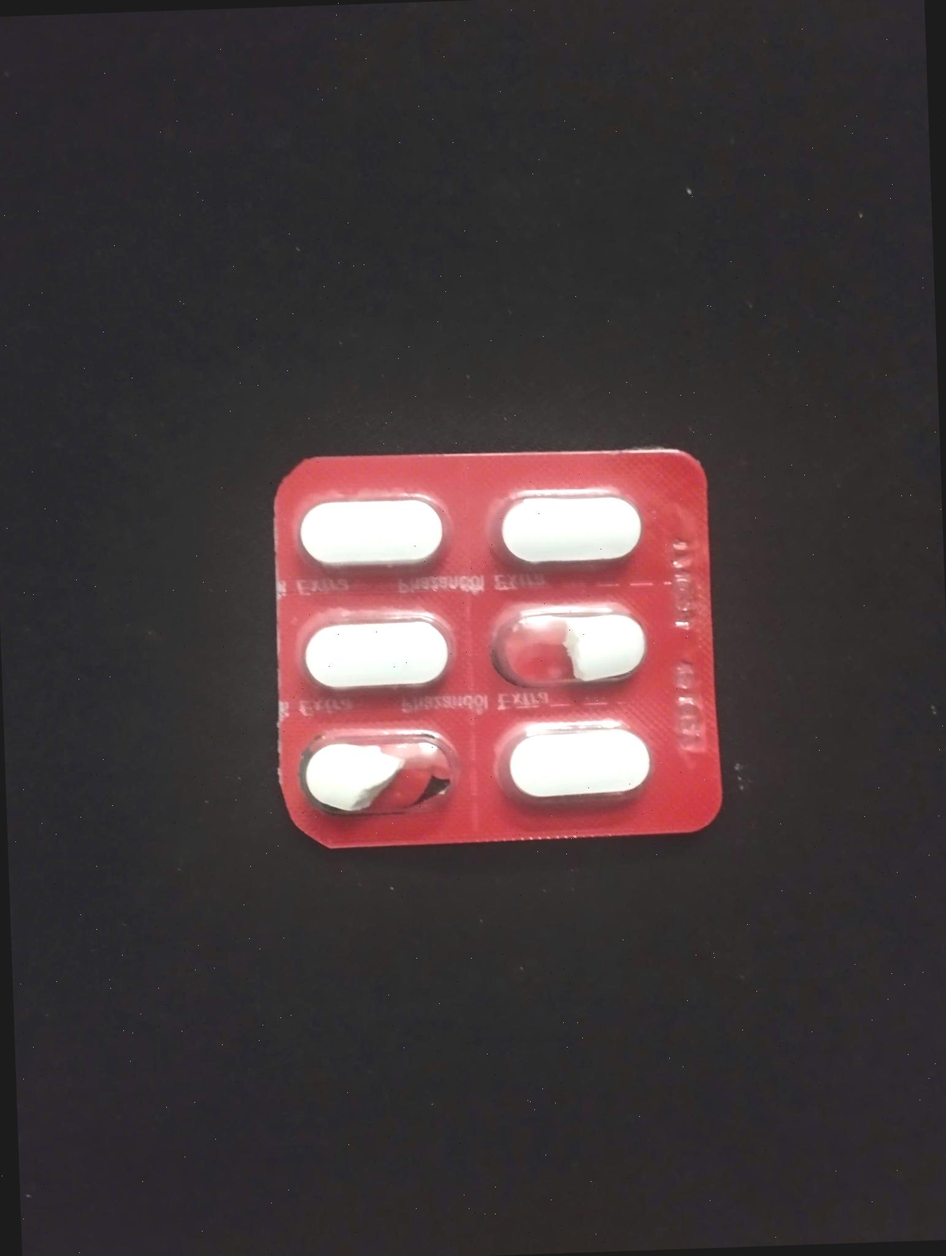Full: (498, 721, 653, 808), (300, 615, 450, 697), (494, 491, 640, 574), (292, 495, 444, 573)
Partial: (486, 599, 648, 700), (302, 727, 447, 821)
